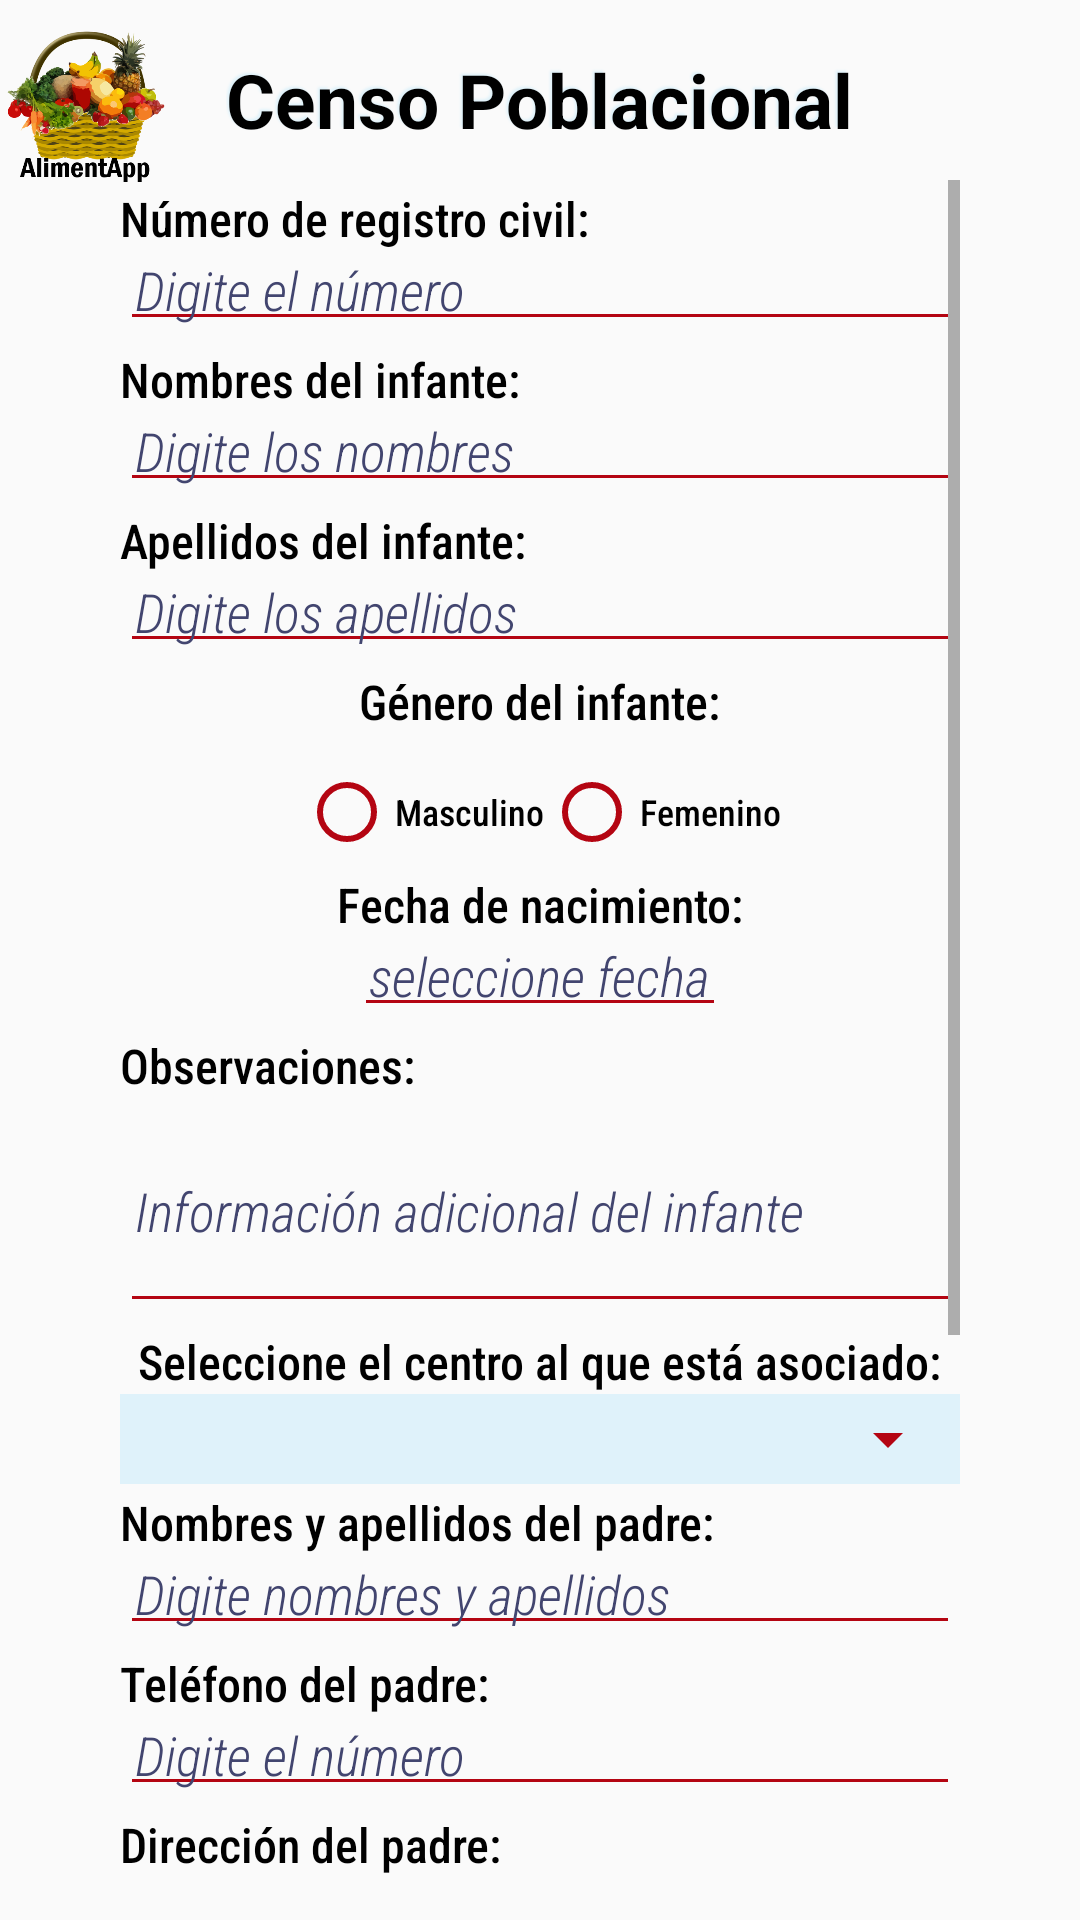

Point at icon controls on the screen. Image size 1080×1920, points as [x,y].
iconosuperior: [86,106]
